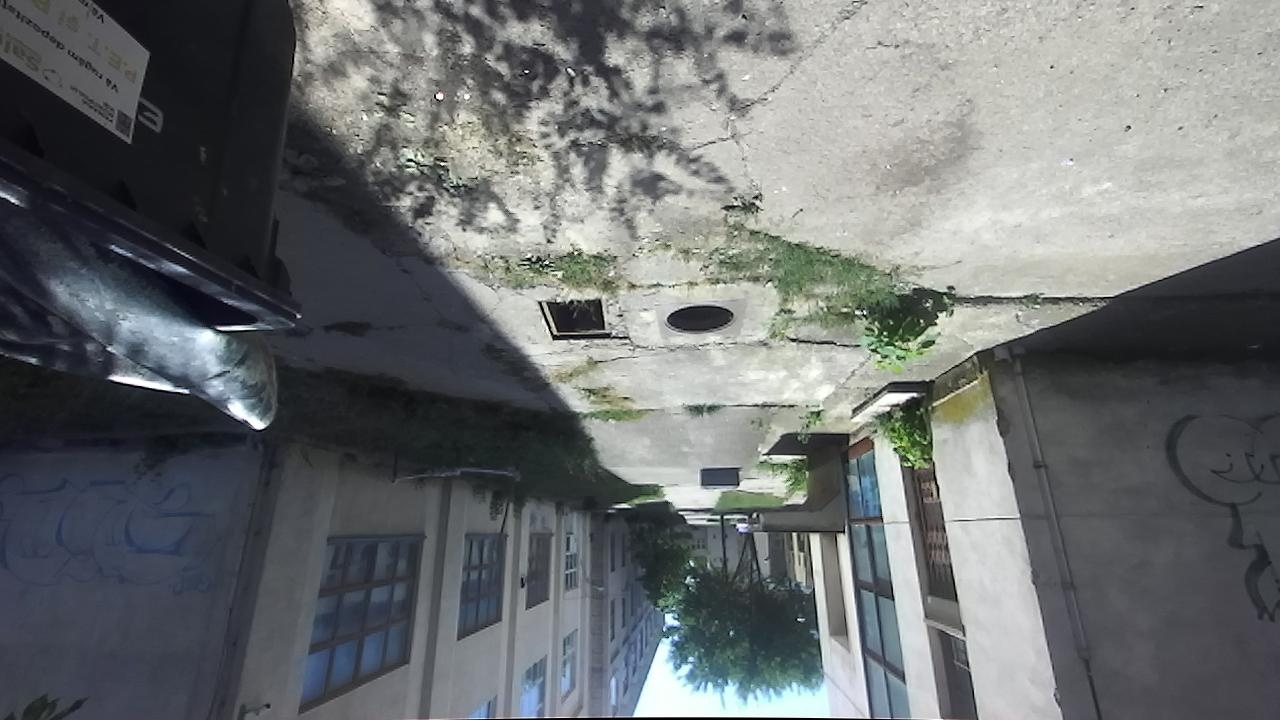drain: (529, 295, 614, 342), (656, 305, 737, 339)
